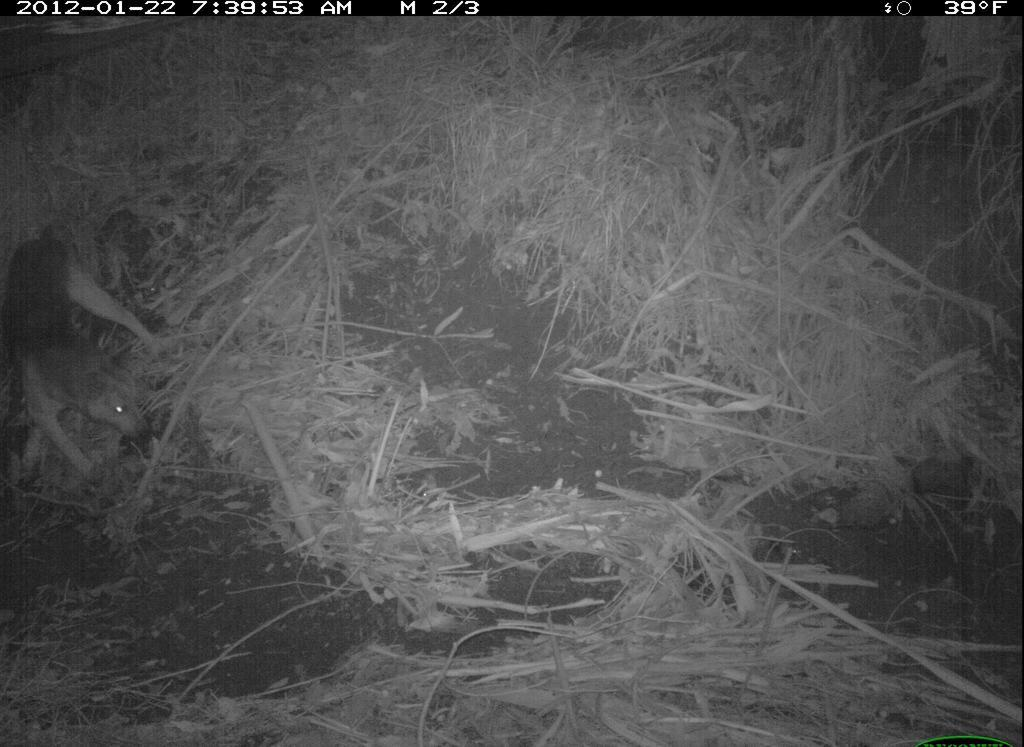dog: (12, 221, 180, 504)
